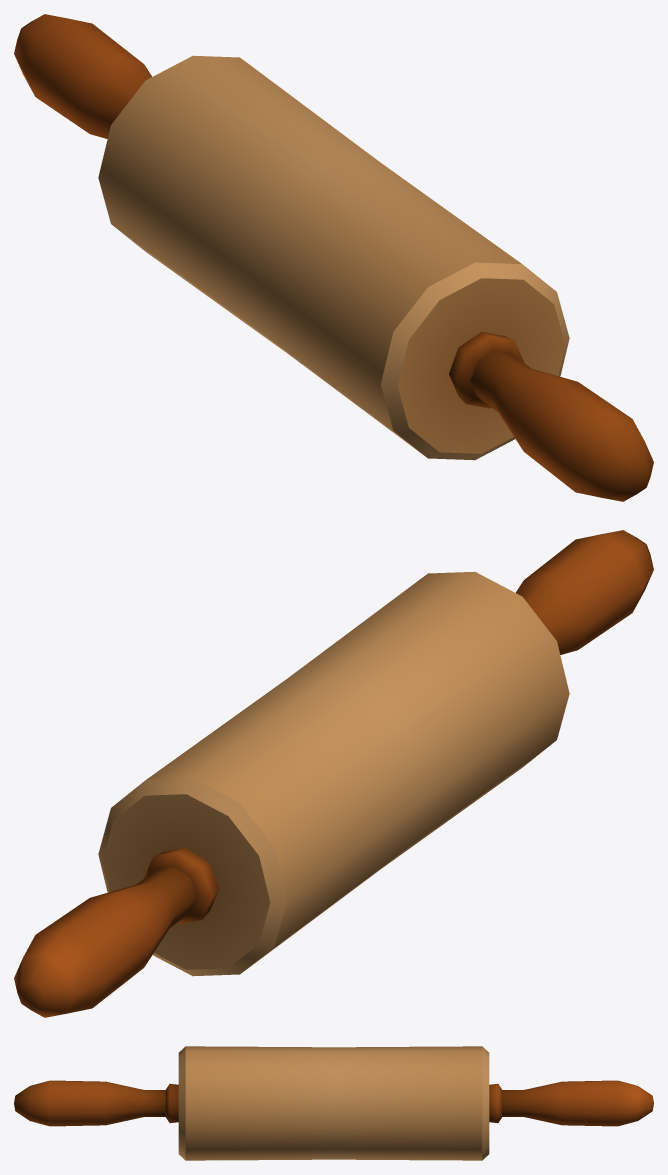
Rendered from Melee_RollingPin.fbx.
3 views of the same model, one above another, from view 1: azimuth 30°, elevation 25°; view 2: azimuth 150°, elevation 25°; view 3: azimuth 270°, elevation 25° (orthographic). The views are drawn at different scales.
Parts seen in each view (by area): view 1: Melee_RollingPin; view 2: Melee_RollingPin; view 3: Melee_RollingPin.
Boxes of the visible parts, x1=… form: Melee_RollingPin: x1=14, y1=14, x2=653, y2=501; Melee_RollingPin: x1=14, y1=530, x2=653, y2=1017; Melee_RollingPin: x1=14, y1=1046, x2=653, y2=1160.
Bounding box in the file's own units: 0.2044 × 0.2044 × 1.14.
